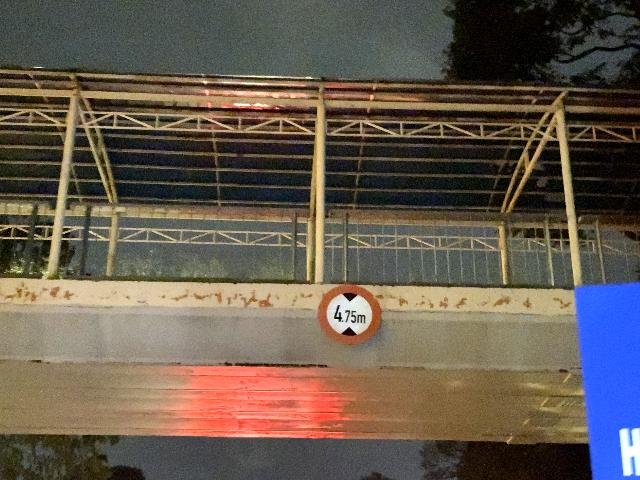han-che-chieu-cao: (319, 284, 382, 346)
